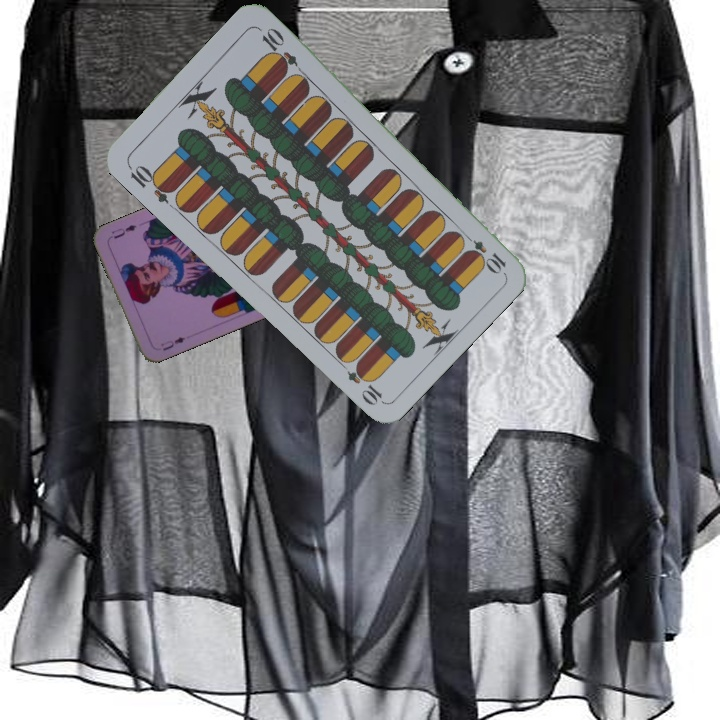E10: (124, 160, 177, 206), (458, 229, 509, 276)
EU: (157, 333, 188, 354)
